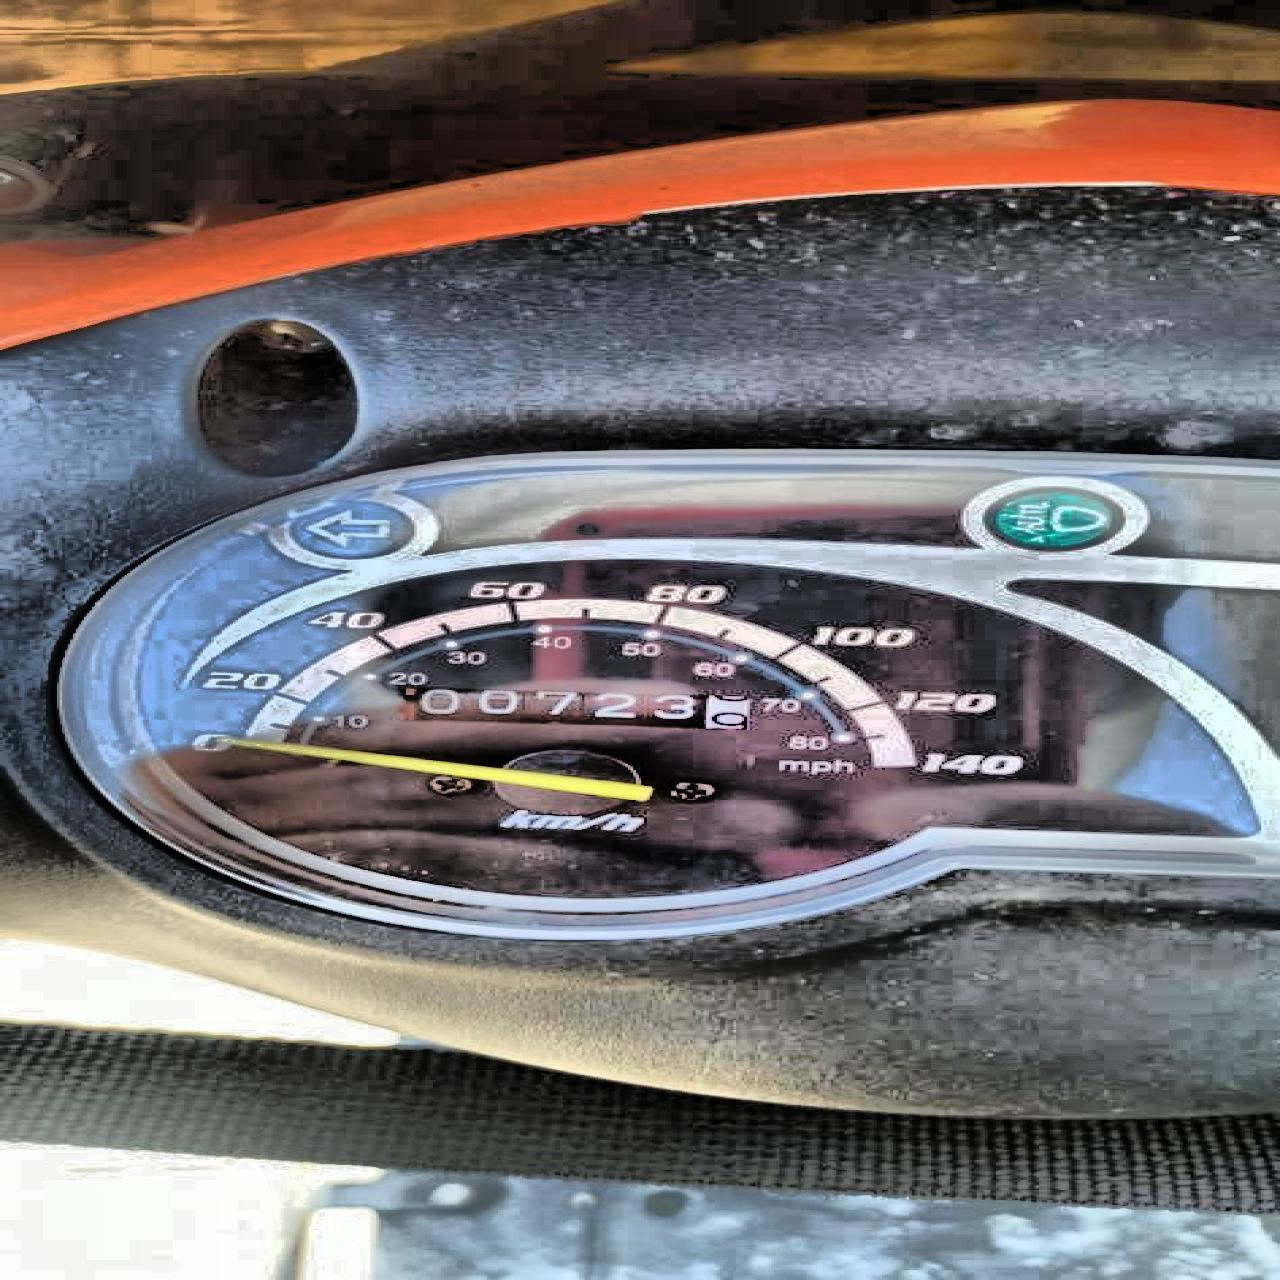0: (474, 688, 517, 714), (417, 688, 457, 714)
2: (593, 692, 633, 717)
3: (649, 693, 693, 719)
7: (533, 690, 573, 714)
9: (709, 712, 744, 731)
odometer: (390, 682, 753, 731)
